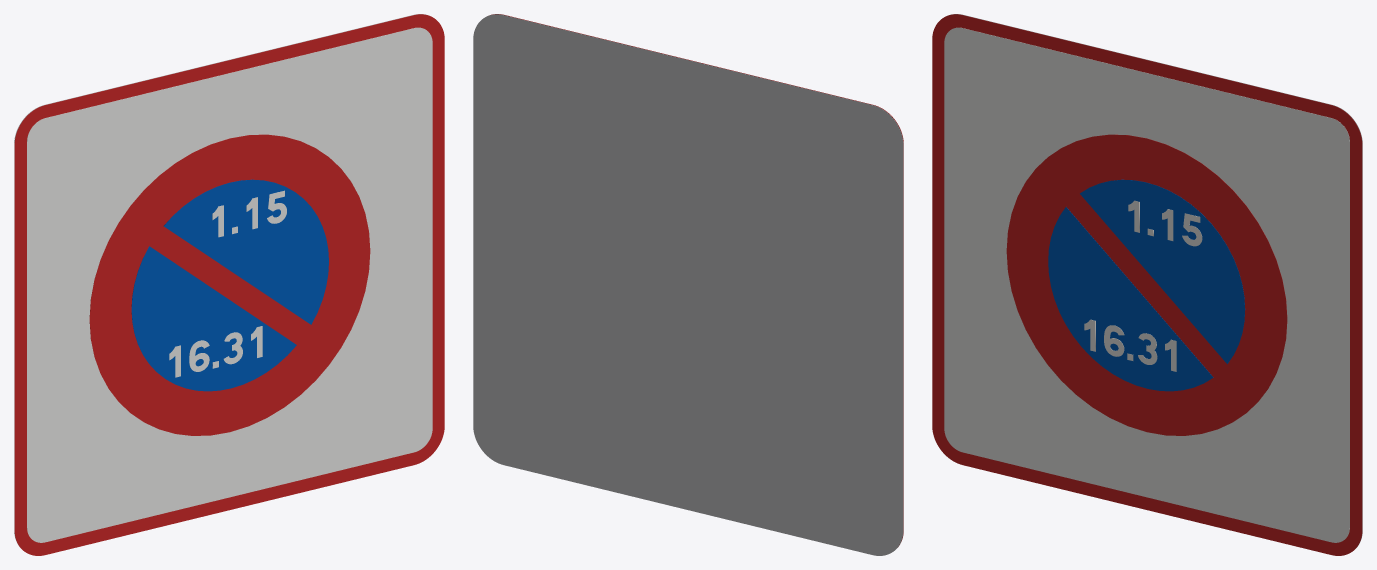
3 renders of one model, left to right at view 1: azimuth 30°, elevation 25°; view 2: azimuth 150°, elevation 25°; view 3: azimuth 330°, elevation 25°, orthographic.
Visible parts, largest first — view 1: B6b2_p01, B6b2_p02, B6b2_p00, B6b2_p06, B6b2_p04, B6b2_dos; view 2: B6b2_dos, B6b2_p00; view 3: B6b2_p01, B6b2_p02, B6b2_p00, B6b2_p06, B6b2_p04, B6b2_dos.
Part boxes in pixels (x1,y1,x2,y2): B6b2_p01: (27, 27, 432, 542); B6b2_p02: (89, 134, 370, 435); B6b2_p00: (14, 14, 444, 555); B6b2_p06: (163, 179, 328, 324); B6b2_p04: (131, 246, 296, 391); B6b2_dos: (14, 14, 426, 546); B6b2_dos: (473, 14, 903, 555); B6b2_p00: (491, 14, 903, 546); B6b2_p01: (944, 27, 1349, 542); B6b2_p02: (1006, 134, 1287, 435); B6b2_p00: (932, 14, 1362, 555); B6b2_p06: (1080, 179, 1245, 364); B6b2_p04: (1048, 207, 1213, 391); B6b2_dos: (950, 14, 1362, 546).
Bounding box in the file's own units: 0.85 × 0.8498 × 0.0079.
